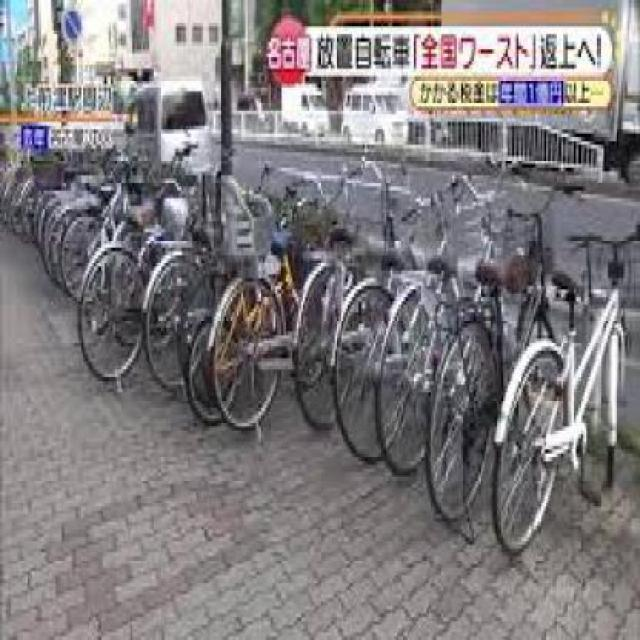bicycle: (420, 151, 569, 557), (494, 211, 640, 577), (373, 146, 493, 491)
